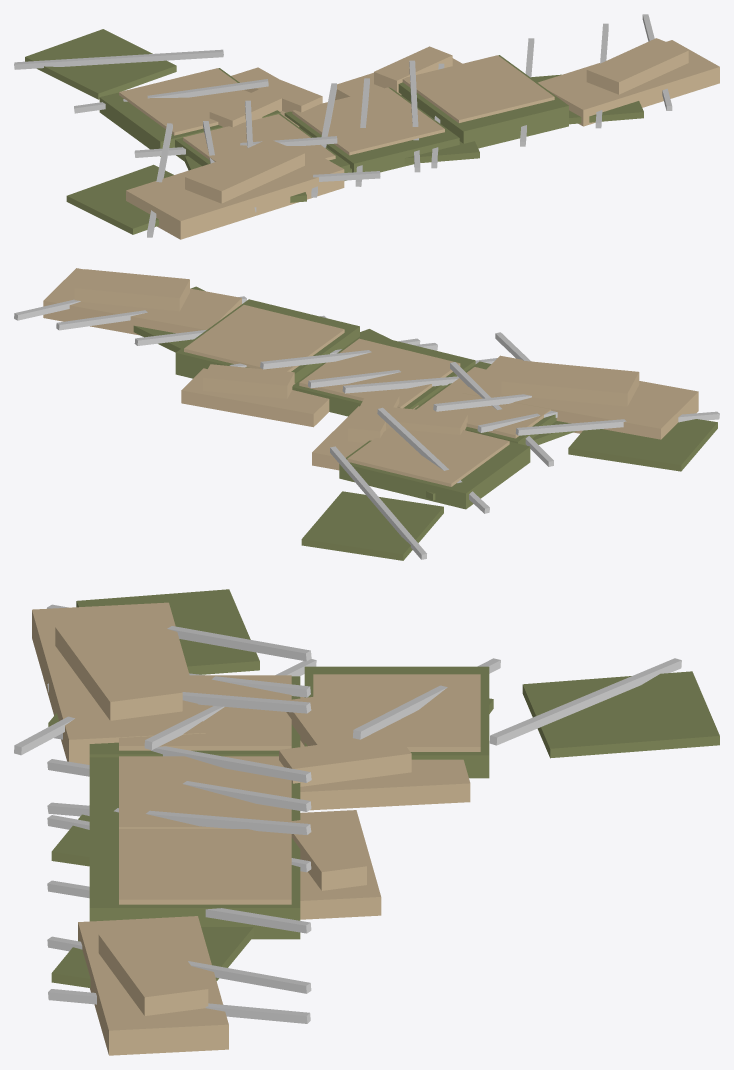
File: SM_HescoRemate_v2_Escalonado_e3_Brecha_LOD0.fbx
3 views of the same model, one above another, from view 1: azimuth 30°, elevation 25°; view 2: azimuth 150°, elevation 25°; view 3: azimuth 270°, elevation 25° (orthographic). The views are drawn at different scales.
Parts seen in each view (by area): view 1: SM_hesco_piezas_v31_LOD0; view 2: SM_hesco_piezas_v31_LOD0; view 3: SM_hesco_piezas_v31_LOD0.
Boxes of the visible parts, x1,y1,x2,y2 form: SM_hesco_piezas_v31_LOD0: [14, 14, 719, 239]; SM_hesco_piezas_v31_LOD0: [14, 268, 719, 560]; SM_hesco_piezas_v31_LOD0: [14, 589, 719, 1055].
Bounding box in the file's own units: 6.23 × 0.3263 × 4.09.
